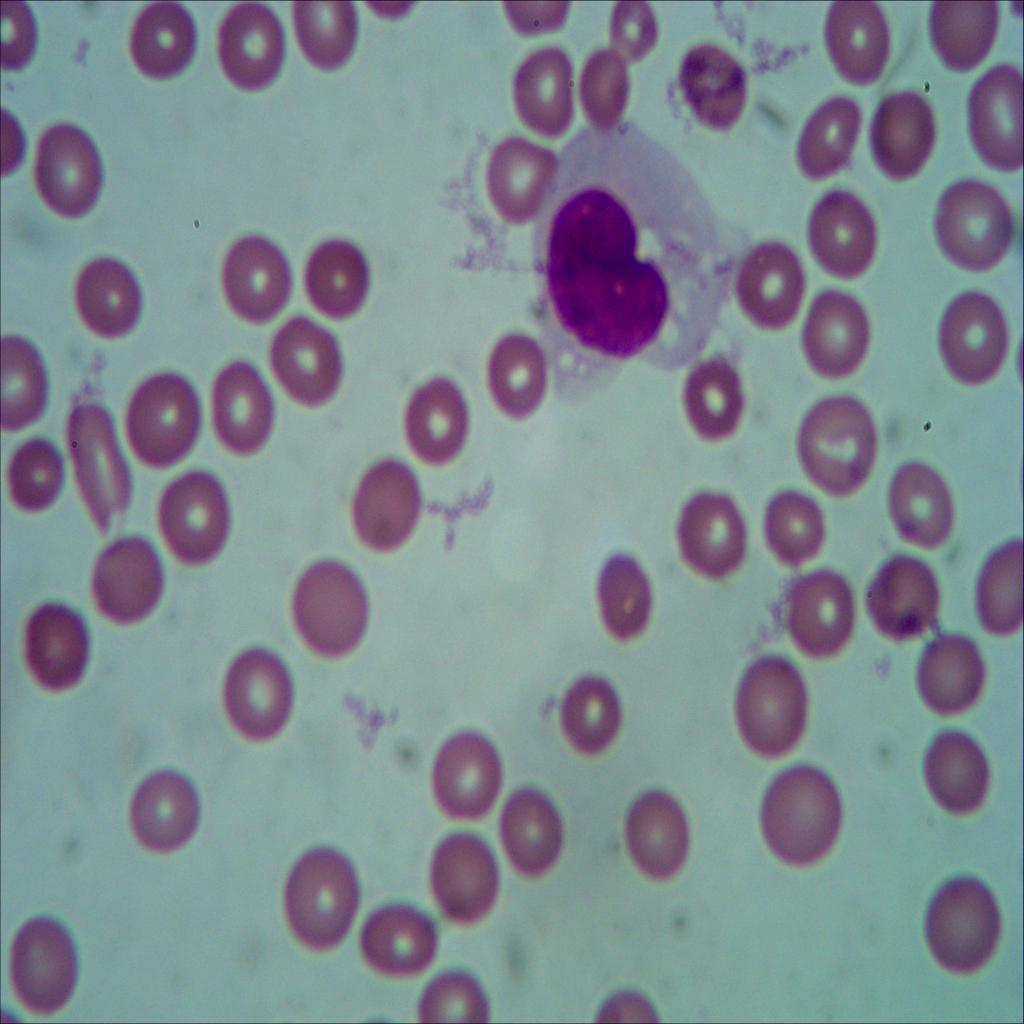Eritrosit: (743, 761, 851, 880), (917, 861, 1013, 993), (66, 396, 142, 534), (727, 656, 825, 762), (790, 386, 884, 496), (280, 844, 368, 960), (421, 815, 511, 928), (624, 774, 703, 901), (0, 907, 90, 1015), (24, 118, 112, 228), (289, 548, 375, 660), (418, 730, 517, 826), (76, 528, 170, 628), (122, 366, 209, 474), (795, 179, 888, 279), (905, 618, 990, 726), (722, 233, 816, 330), (879, 454, 964, 560), (19, 590, 96, 707), (856, 547, 943, 650), (933, 174, 1024, 272), (670, 46, 758, 147), (260, 310, 348, 410), (774, 568, 858, 672), (196, 357, 277, 463), (160, 471, 239, 579), (670, 484, 752, 588), (470, 327, 556, 425), (210, 0, 289, 106), (480, 125, 563, 225), (218, 639, 296, 745), (936, 286, 1014, 392), (506, 33, 580, 143), (114, 0, 199, 95), (397, 371, 475, 474), (954, 57, 1024, 171), (129, 763, 210, 861), (909, 730, 1001, 815), (499, 783, 573, 888), (550, 666, 629, 763), (745, 482, 836, 565), (213, 228, 297, 317), (790, 84, 864, 185), (810, 0, 898, 84), (802, 287, 875, 385), (863, 87, 940, 179), (360, 898, 447, 978), (0, 325, 63, 435), (352, 464, 428, 554), (963, 530, 1024, 642), (682, 350, 752, 444), (70, 254, 147, 338), (592, 558, 667, 644), (286, 0, 358, 89), (305, 235, 380, 320), (0, 433, 65, 531), (571, 48, 637, 138), (411, 953, 492, 1024), (922, 0, 992, 78), (600, 0, 661, 78)
Monosit: (532, 124, 746, 382)
